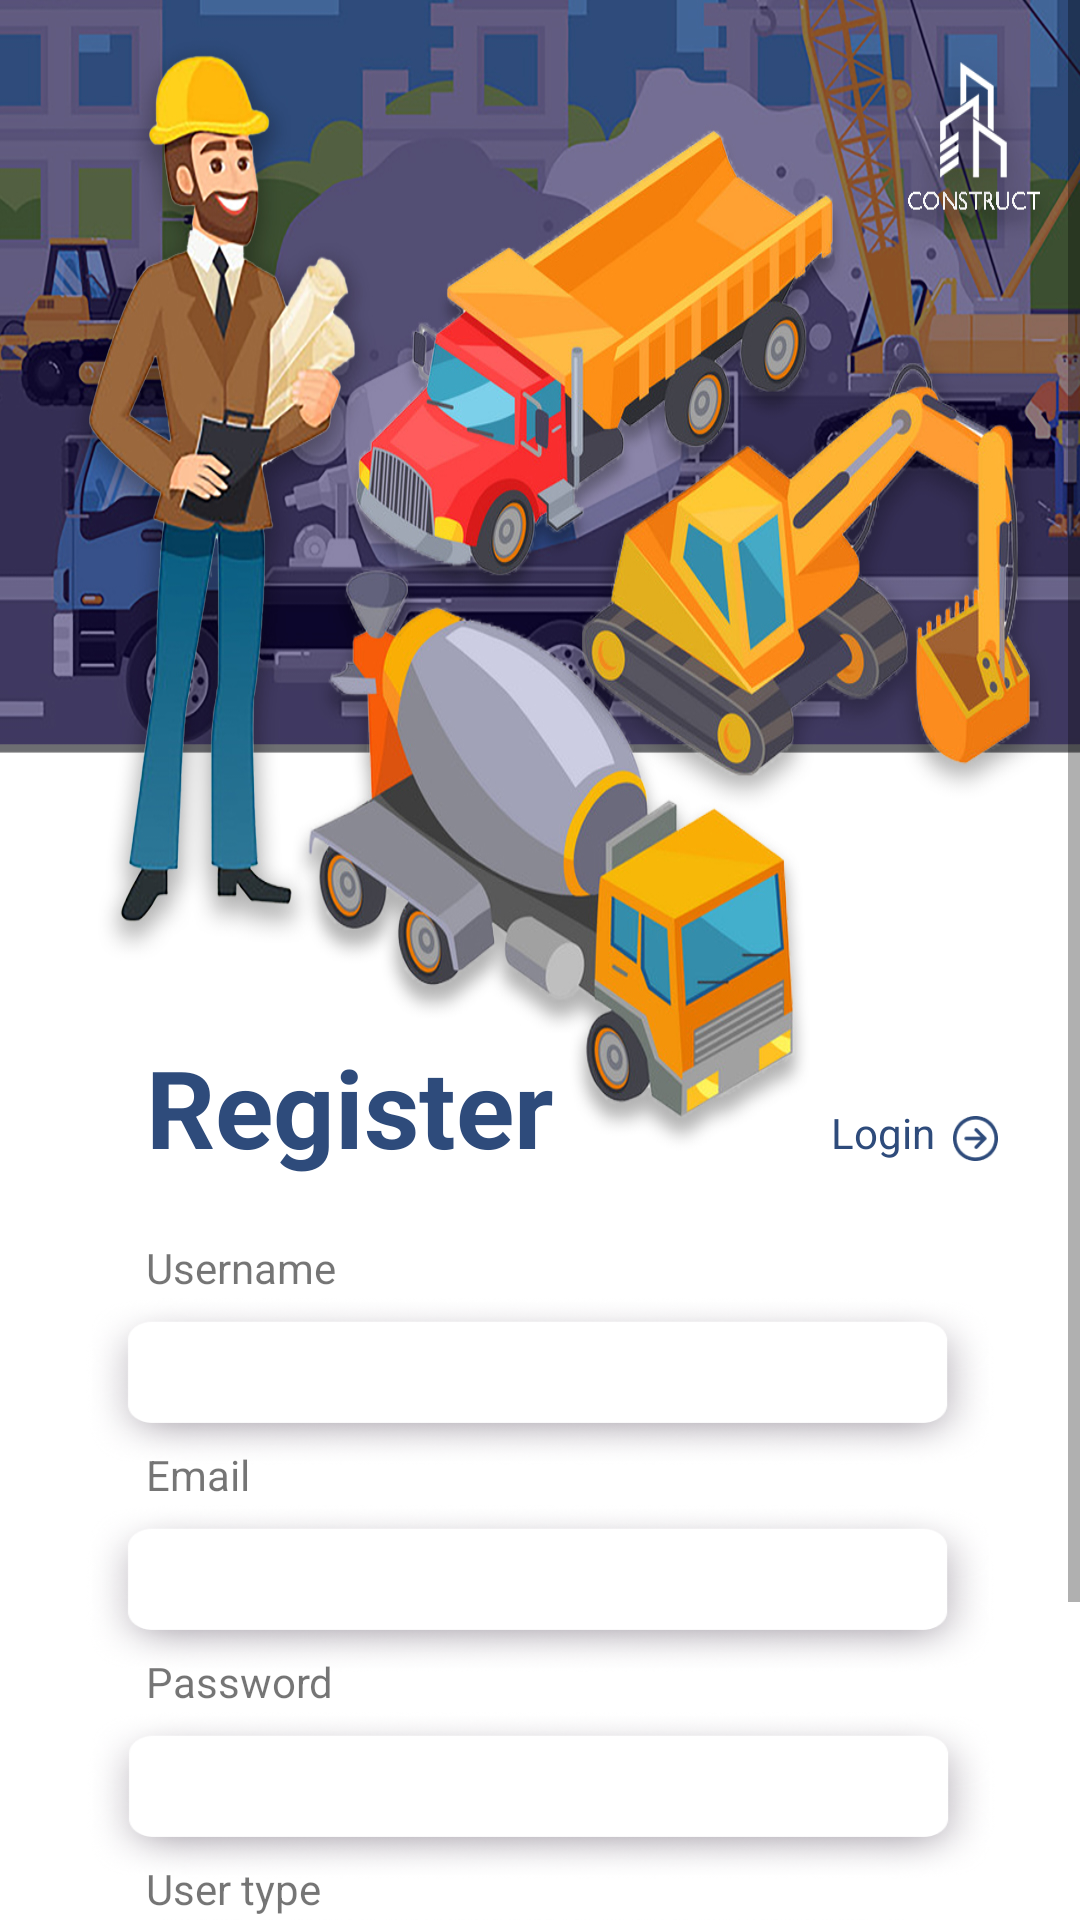

Point at icon controls on the screen. Image size 1080px×1920px, points as [x,y].
arrow: [975,1138]
